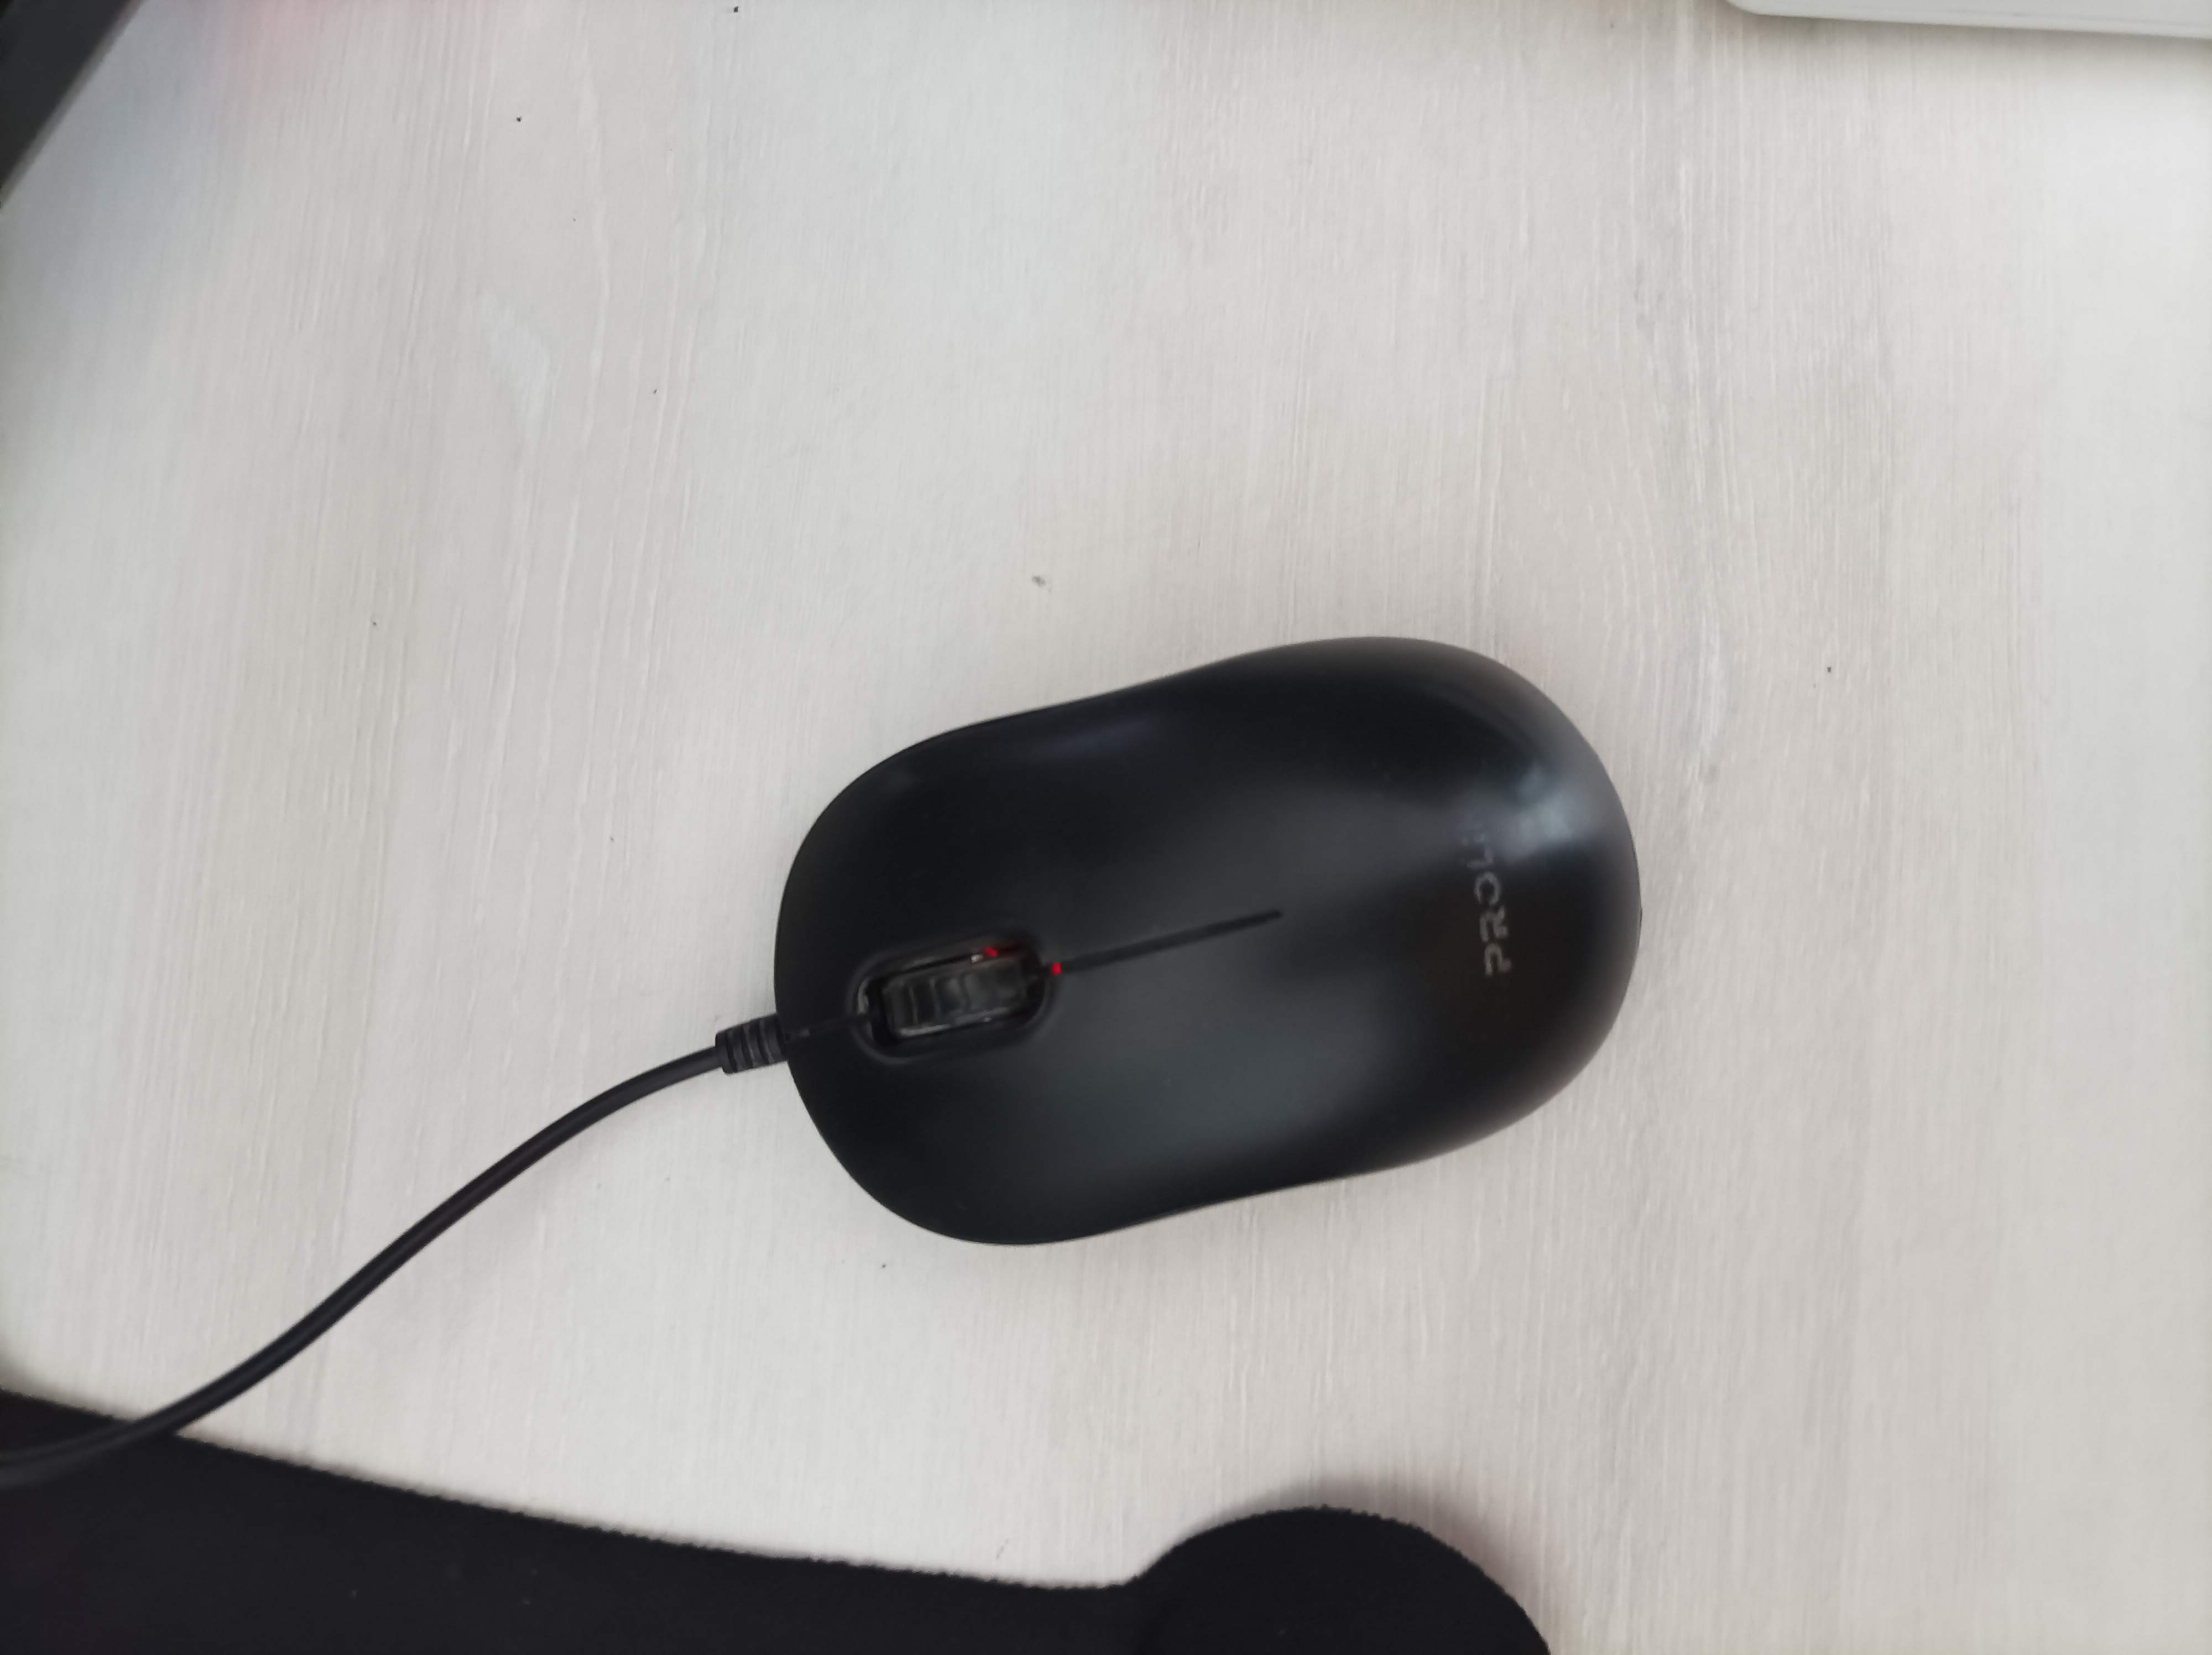mouse: (744, 626, 1654, 1267)
